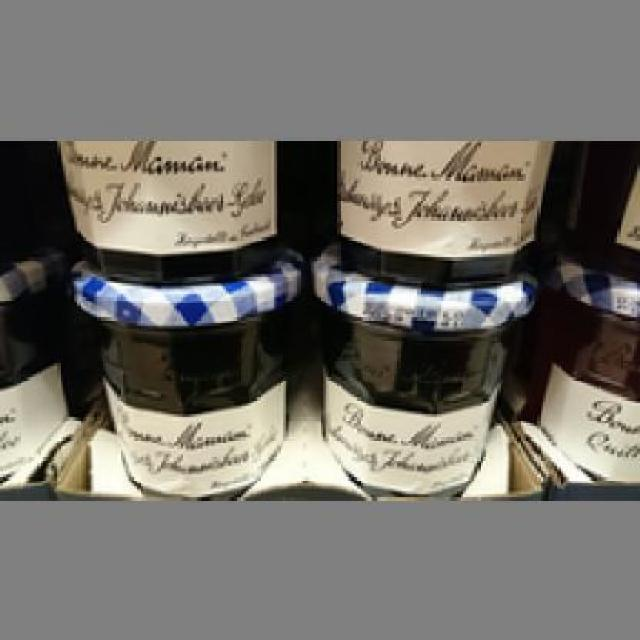Jam: (65, 246, 301, 494), (308, 242, 534, 498), (314, 137, 554, 286), (49, 137, 288, 280), (522, 243, 638, 480)
